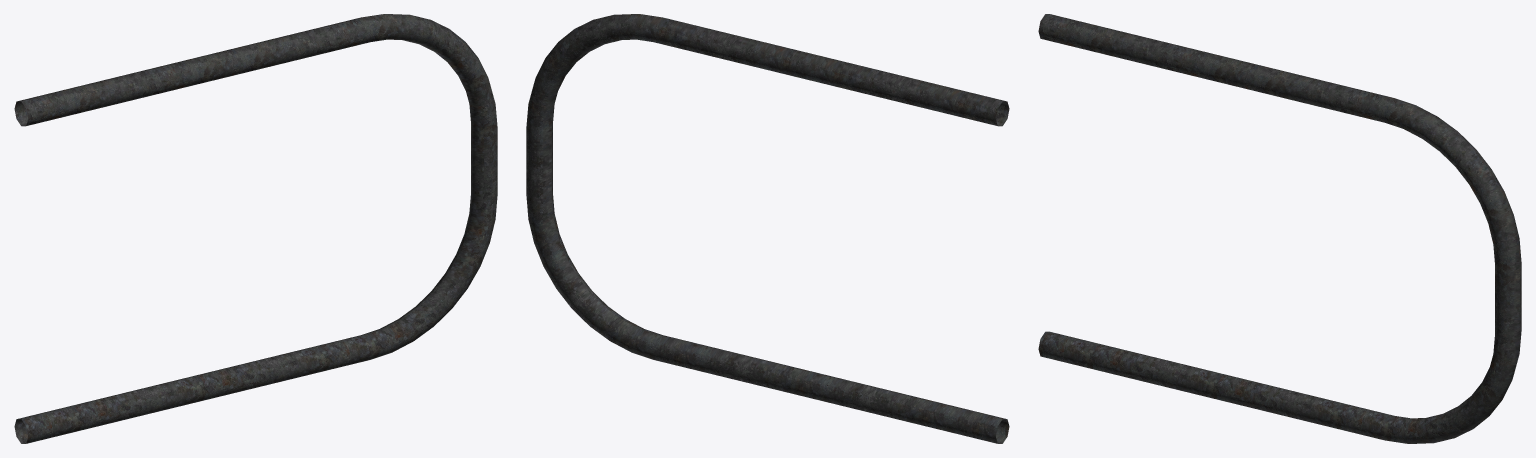
The model's file is cP_BikeRack01.dae.
3 renders of one model, left to right at view 1: azimuth 30°, elevation 25°; view 2: azimuth 150°, elevation 25°; view 3: azimuth 330°, elevation 25°, orthographic.
Visible parts, largest first — view 1: cP_BikeRack01.001; view 2: cP_BikeRack01.001; view 3: cP_BikeRack01.001.
Part boxes in pixels (left/top/right/bottom): cP_BikeRack01.001: left=14, top=14, right=497, bottom=443; cP_BikeRack01.001: left=526, top=14, right=1009, bottom=443; cP_BikeRack01.001: left=1038, top=14, right=1521, bottom=443.
Bounding box in the file's own units: 1.3 × 0.0651 × 0.8982.
